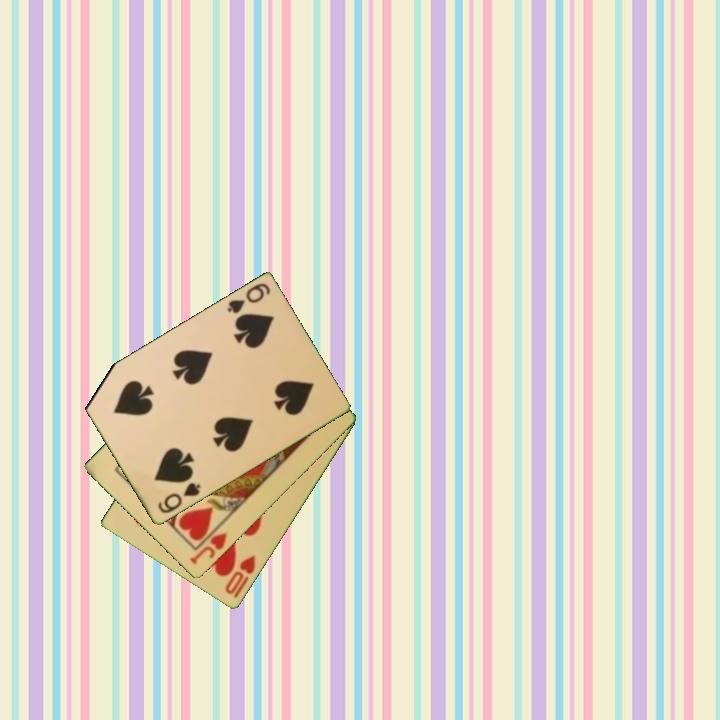10h: (221, 552, 259, 598)
6s: (154, 479, 204, 517), (223, 280, 273, 317)
Jh: (186, 529, 230, 568)
